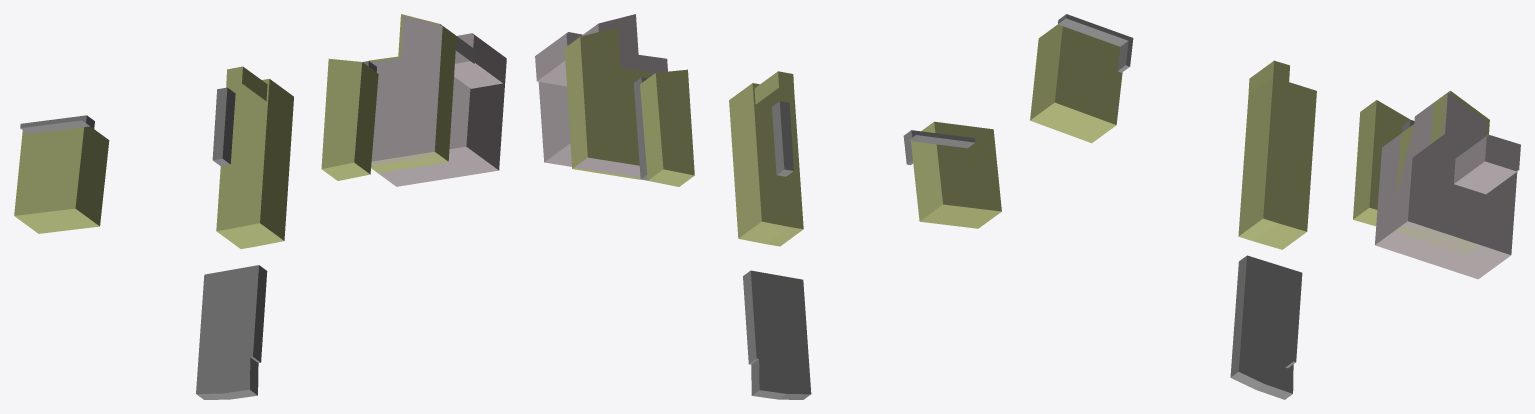
3 views of the same model, side by side, from view 1: azimuth 30°, elevation 25°; view 2: azimuth 150°, elevation 25°; view 3: azimuth 330°, elevation 25° (orthographic). The views are drawn at different scales.
Parts seen in each view (by area): view 1: 0_2_1_3_0_3_1_1; view 2: 0_2_1_3_0_3_1_1; view 3: 0_2_1_3_0_3_1_1.
Boxes of the visible parts, left/top/right/bottom form: 0_2_1_3_0_3_1_1: left=14, top=14, right=506, bottom=399; 0_2_1_3_0_3_1_1: left=535, top=14, right=1001, bottom=399; 0_2_1_3_0_3_1_1: left=1030, top=14, right=1520, bottom=399.
Size of the model in its own units: 97.38 by 68.06 by 12.9.
